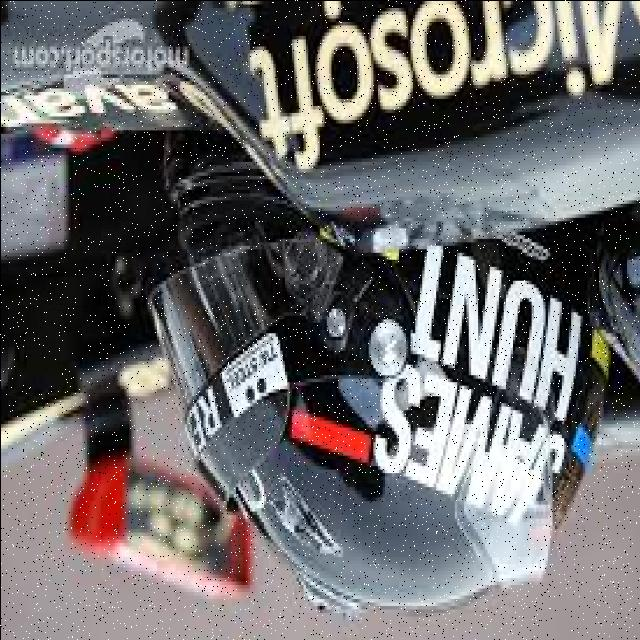Helmet: (147, 134, 606, 608)
